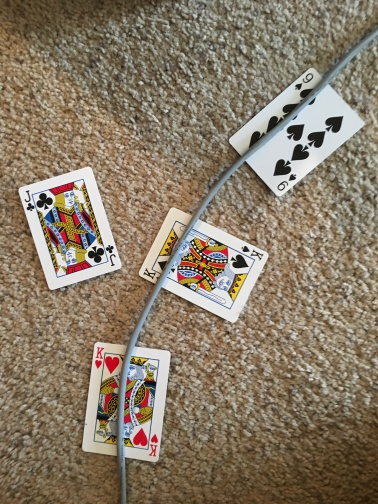jack: (17, 166, 122, 290)
king: (138, 207, 270, 324), (82, 340, 171, 463)
nine: (229, 67, 364, 196)
